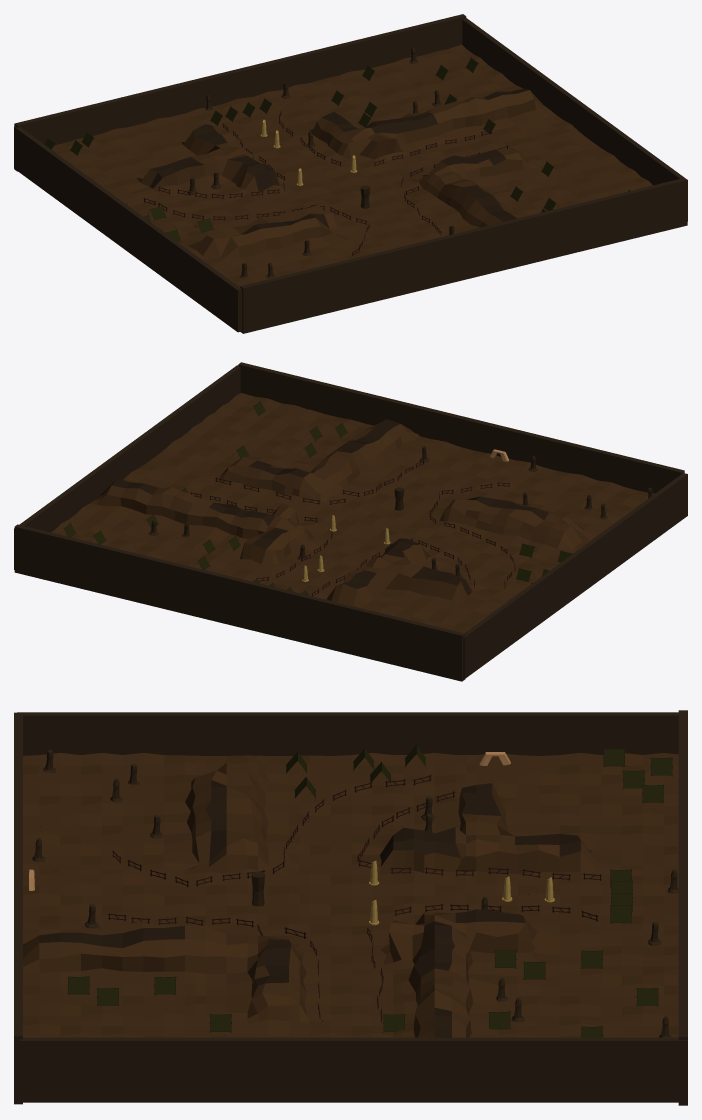
Rendered from Jordan.obj.
The picture shows the model from 3 angles, top to bottom: view 1: azimuth 30°, elevation 25°; view 2: azimuth 150°, elevation 25°; view 3: azimuth 270°, elevation 25°; orthographic projection. The views are drawn at different scales.
Visible parts, largest first — view 1: Plane_Plane.000_Material.000, Cube_145.001_Cube.002_Material_000, Cube_145_Cube.010_Material_000, Cube_145.003_Cube.013_Material_000, Cube_145.002_Cube.003_Material_000, Plane_Plane.000_Material.001; view 2: Plane_Plane.000_Material.000, Cube_145_Cube.010_Material_000, Cube_145.001_Cube.002_Material_000, Cube_145.003_Cube.013_Material_000, Cube_145.002_Cube.003_Material_000, Plane_Plane.000_Material.001; view 3: Plane_Plane.000_Material.000, Cube_145.002_Cube.003_Material_000, Cube_145.003_Cube.013_Material_000, Plane_Plane.000_Material.001, Cube_145_Cube.010_Material_000, Cube_145.001_Cube.002_Material_000.
Boxes of the visible parts, x1=… form: Plane_Plane.000_Material.000: x1=52, y1=44, x2=652, y2=287; Cube_145.001_Cube.002_Material_000: x1=240, y1=177, x2=687, y2=333; Cube_145_Cube.010_Material_000: x1=14, y1=14, x2=466, y2=171; Cube_145.003_Cube.013_Material_000: x1=14, y1=126, x2=242, y2=332; Cube_145.002_Cube.003_Material_000: x1=462, y1=18, x2=687, y2=221; Plane_Plane.000_Material.001: x1=150, y1=88, x2=528, y2=234; Plane_Plane.000_Material.000: x1=51, y1=393, x2=654, y2=633; Cube_145_Cube.010_Material_000: x1=14, y1=524, x2=465, y2=681; Cube_145.001_Cube.002_Material_000: x1=238, y1=362, x2=684, y2=493; Cube_145.003_Cube.013_Material_000: x1=463, y1=473, x2=687, y2=678; Cube_145.002_Cube.003_Material_000: x1=14, y1=365, x2=240, y2=569; Plane_Plane.000_Material.001: x1=98, y1=419, x2=548, y2=595; Plane_Plane.000_Material.000: x1=23, y1=753, x2=678, y2=1037; Cube_145.002_Cube.003_Material_000: x1=19, y1=1037, x2=687, y2=1102; Cube_145.003_Cube.013_Material_000: x1=17, y1=712, x2=678, y2=755; Plane_Plane.000_Material.001: x1=39, y1=780, x2=580, y2=1037; Cube_145_Cube.010_Material_000: x1=678, y1=710, x2=687, y2=1105; Cube_145.001_Cube.002_Material_000: x1=14, y1=712, x2=22, y2=1104.
Bounding box in the file's own units: 810 × 78.87 × 703.
